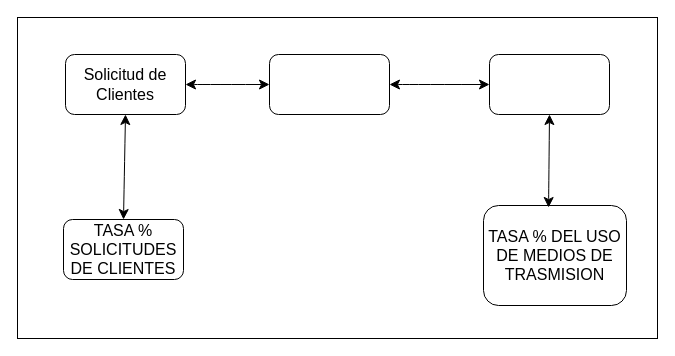
Image size: 675x356. Some labels were removed from this diagram. The box of each missing label's shape, as (x1, y1, x2, y2) in pixels:
Medios de Transmisión: (488, 54, 610, 114)
Servidores: (268, 54, 390, 114)
